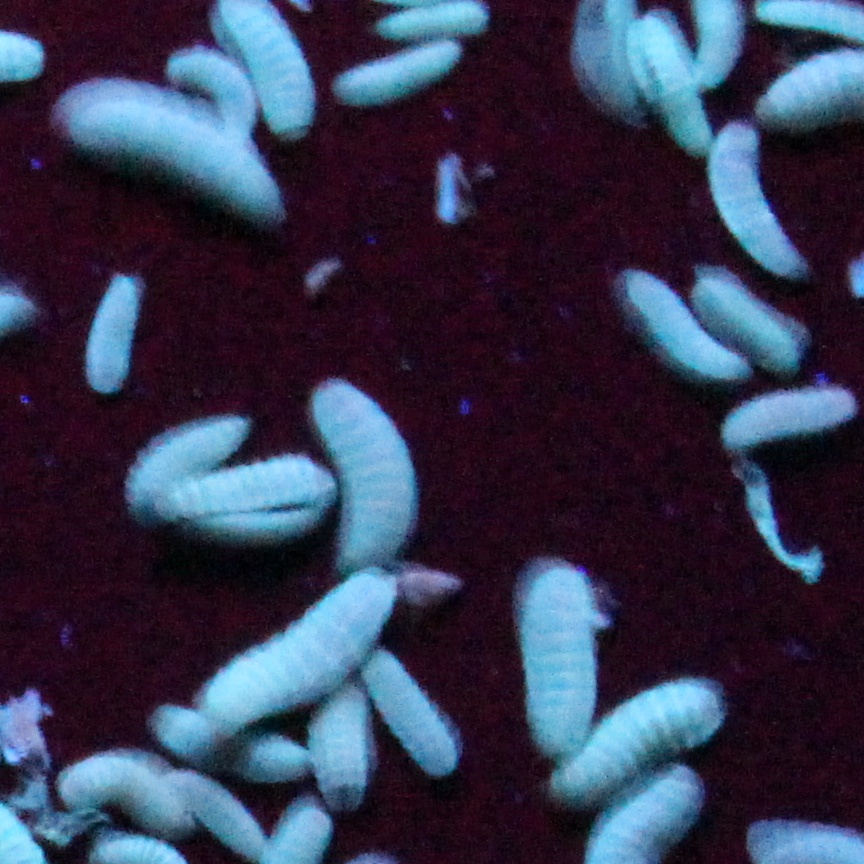larve: (42, 88, 294, 236), (210, 568, 402, 736), (558, 684, 718, 796), (518, 564, 606, 744), (710, 119, 795, 278), (334, 384, 402, 580), (352, 658, 461, 776), (630, 288, 758, 388), (690, 260, 794, 372), (162, 468, 326, 536), (138, 416, 254, 508), (63, 761, 195, 838), (646, 12, 714, 148), (331, 52, 466, 116), (726, 388, 850, 456), (186, 56, 270, 136), (90, 280, 134, 408), (398, 12, 490, 48)
